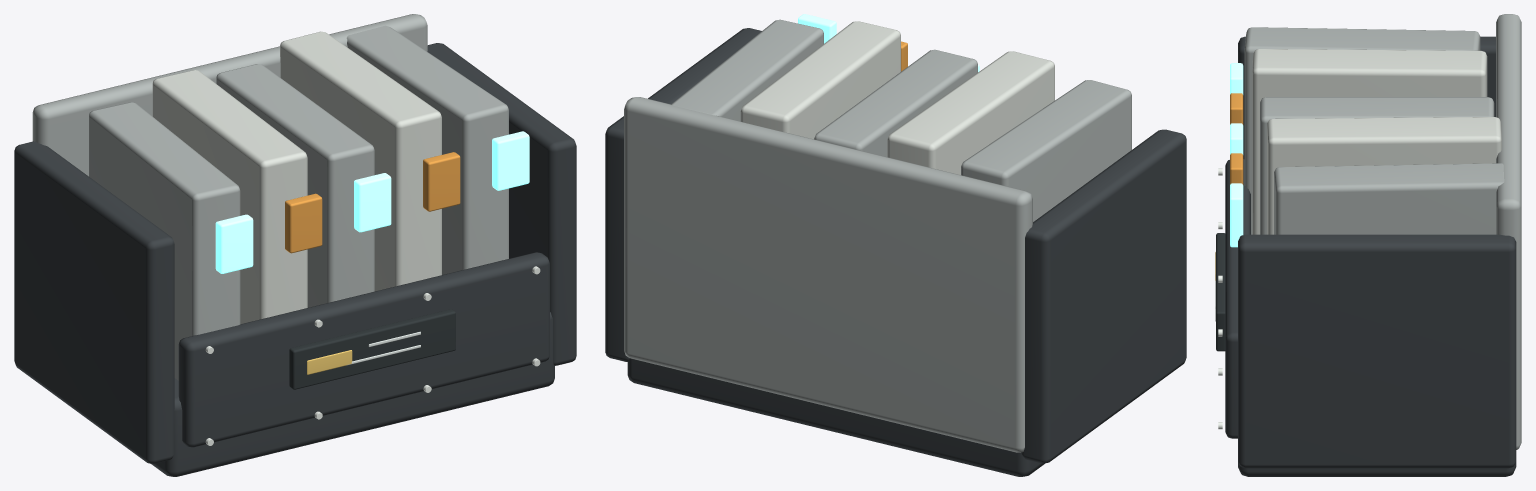
Rendered from hp_prop_archive_folder_stack.glb.
3 views of the same model, side by side, from view 1: azimuth 30°, elevation 25°; view 2: azimuth 150°, elevation 25°; view 3: azimuth 270°, elevation 25° (orthographic). The views are drawn at different scales.
Visible parts, largest first — view 1: prop_archive_folder_stack_side_cheek_l, prop_archive_folder_stack_tray_front_lip, prop_archive_folder_stack_upright_folder_1, prop_archive_folder_stack_upright_folder_4, prop_archive_folder_stack_upright_folder_2, prop_archive_folder_stack_upright_folder_5, prop_archive_folder_stack_upright_folder_3, prop_archive_folder_stack_side_cheek_r, prop_archive_folder_stack_tray_base, prop_archive_folder_stack_tray_back_panel, prop_archive_folder_stack_front_archive_label_label_plate_bo, prop_archive_folder_stack_index_tab_1 (+5 smaller); view 2: prop_archive_folder_stack_tray_back_panel, prop_archive_folder_stack_side_cheek_l, prop_archive_folder_stack_upright_folder_1, prop_archive_folder_stack_upright_folder_2, prop_archive_folder_stack_upright_folder_4, prop_archive_folder_stack_tray_base, prop_archive_folder_stack_upright_folder_3, prop_archive_folder_stack_upright_folder_5, prop_archive_folder_stack_side_cheek_r; view 3: prop_archive_folder_stack_side_cheek_r, prop_archive_folder_stack_upright_folder_5, prop_archive_folder_stack_upright_folder_2, prop_archive_folder_stack_upright_folder_4, prop_archive_folder_stack_tray_back_panel, prop_archive_folder_stack_upright_folder_1, prop_archive_folder_stack_upright_folder_3, prop_archive_folder_stack_tray_front_lip, prop_archive_folder_stack_tray_base, prop_archive_folder_stack_front_archive_label_label_plate_bo, prop_archive_folder_stack_side_cheek_l, prop_archive_folder_stack_index_tab_5 (+4 smaller).
Part boxes in pixels (box(x1,y1,x2,y2)): prop_archive_folder_stack_side_cheek_l: box(14, 141, 174, 463); prop_archive_folder_stack_tray_front_lip: box(178, 252, 549, 447); prop_archive_folder_stack_upright_folder_1: box(89, 102, 240, 380); prop_archive_folder_stack_upright_folder_4: box(280, 31, 441, 291); prop_archive_folder_stack_upright_folder_2: box(152, 70, 307, 324); prop_archive_folder_stack_upright_folder_5: box(346, 25, 508, 274); prop_archive_folder_stack_upright_folder_3: box(216, 64, 374, 307); prop_archive_folder_stack_side_cheek_r: box(427, 43, 576, 365); prop_archive_folder_stack_tray_base: box(151, 312, 554, 476); prop_archive_folder_stack_tray_back_panel: box(32, 14, 427, 176); prop_archive_folder_stack_front_archive_label_label_plate_bo: box(289, 309, 455, 389); prop_archive_folder_stack_index_tab_1: box(215, 214, 253, 273); prop_archive_folder_stack_tray_back_panel: box(624, 97, 1032, 452); prop_archive_folder_stack_side_cheek_l: box(1021, 129, 1186, 463); prop_archive_folder_stack_upright_folder_1: box(961, 80, 1131, 221); prop_archive_folder_stack_upright_folder_2: box(887, 51, 1054, 174); prop_archive_folder_stack_upright_folder_4: box(740, 21, 900, 139); prop_archive_folder_stack_tray_base: box(627, 358, 1044, 476); prop_archive_folder_stack_upright_folder_3: box(814, 49, 977, 156); prop_archive_folder_stack_upright_folder_5: box(671, 19, 823, 121); prop_archive_folder_stack_side_cheek_r: box(605, 28, 761, 361); prop_archive_folder_stack_side_cheek_r: box(1238, 234, 1516, 468); prop_archive_folder_stack_upright_folder_5: box(1274, 163, 1504, 234); prop_archive_folder_stack_upright_folder_2: box(1252, 49, 1487, 234); prop_archive_folder_stack_upright_folder_4: box(1267, 117, 1501, 234); prop_archive_folder_stack_tray_back_panel: box(1496, 14, 1521, 449); prop_archive_folder_stack_upright_folder_1: box(1244, 27, 1480, 234); prop_archive_folder_stack_upright_folder_3: box(1260, 97, 1494, 234); prop_archive_folder_stack_tray_front_lip: box(1225, 159, 1250, 438); prop_archive_folder_stack_tray_base: box(1238, 461, 1516, 476); prop_archive_folder_stack_front_archive_label_label_plate_bo: box(1216, 233, 1225, 351); prop_archive_folder_stack_side_cheek_l: box(1238, 36, 1495, 158); prop_archive_folder_stack_index_tab_5: box(1230, 183, 1243, 247).
Bounding box in the file's own units: 0.685 × 0.44 × 0.4185.
